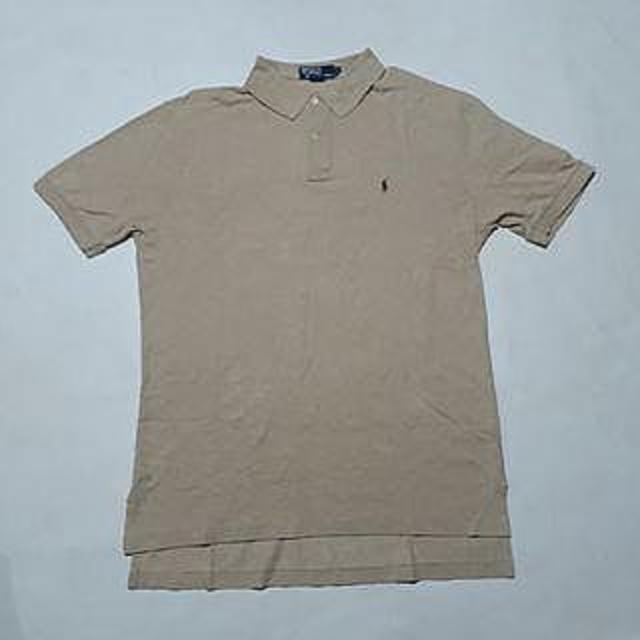T_SHIRT: (18, 48, 604, 599)
